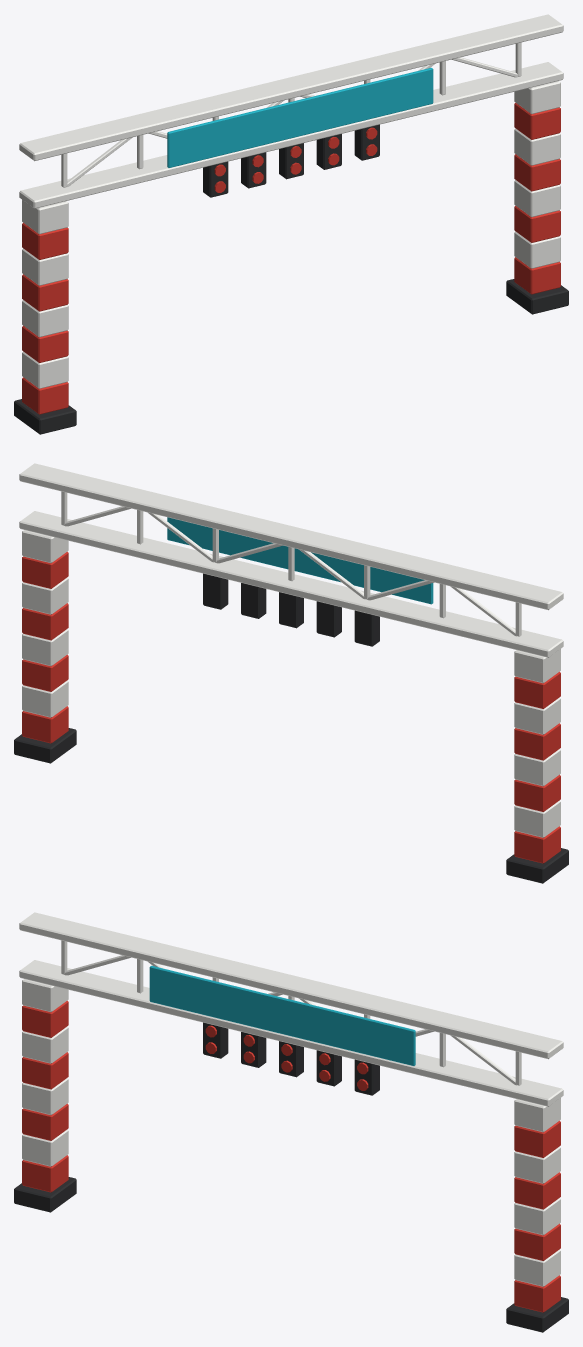
File: start_gantry.obj
3 views of the same model, one above another, from view 1: azimuth 30°, elevation 25°; view 2: azimuth 150°, elevation 25°; view 3: azimuth 330°, elevation 25° (orthographic).
Visible parts, largest first — view 1: start_gantry; view 2: start_gantry; view 3: start_gantry.
Part boxes in pixels (x1,y1,x2,y2): start_gantry: [14, 14, 568, 434]; start_gantry: [14, 463, 568, 883]; start_gantry: [14, 912, 568, 1332].
Bounding box in the file's own units: 14 × 7 × 1.2.
